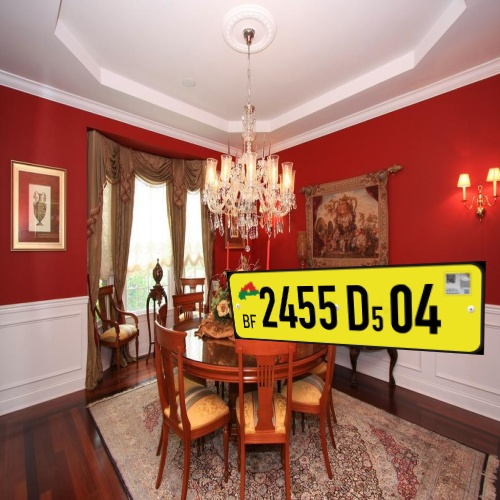plate: (215, 248, 492, 375)
